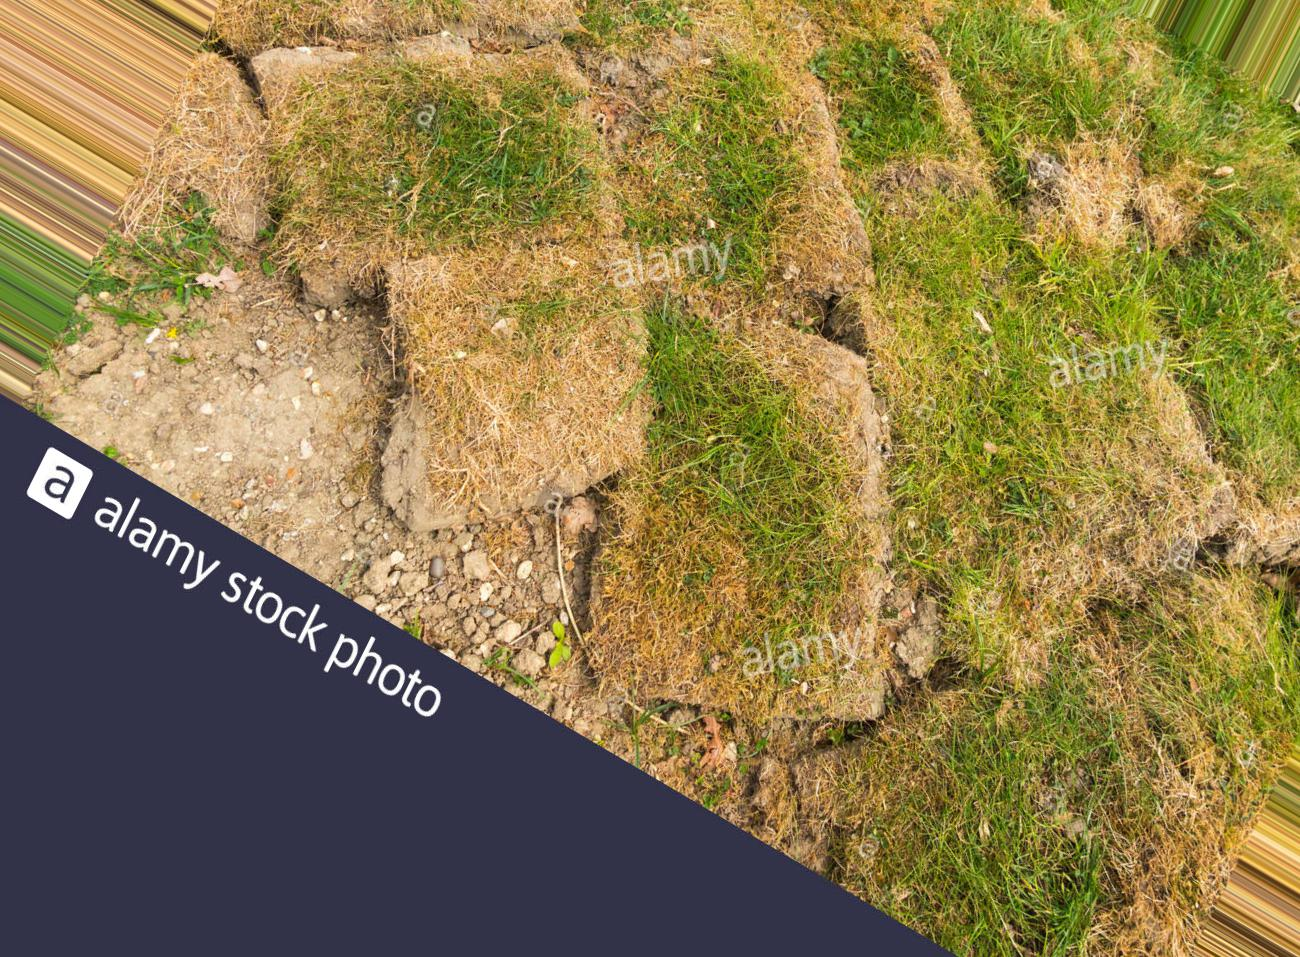patch: (128, 267, 570, 606), (1039, 139, 1180, 287), (784, 278, 870, 413), (226, 8, 314, 86)
